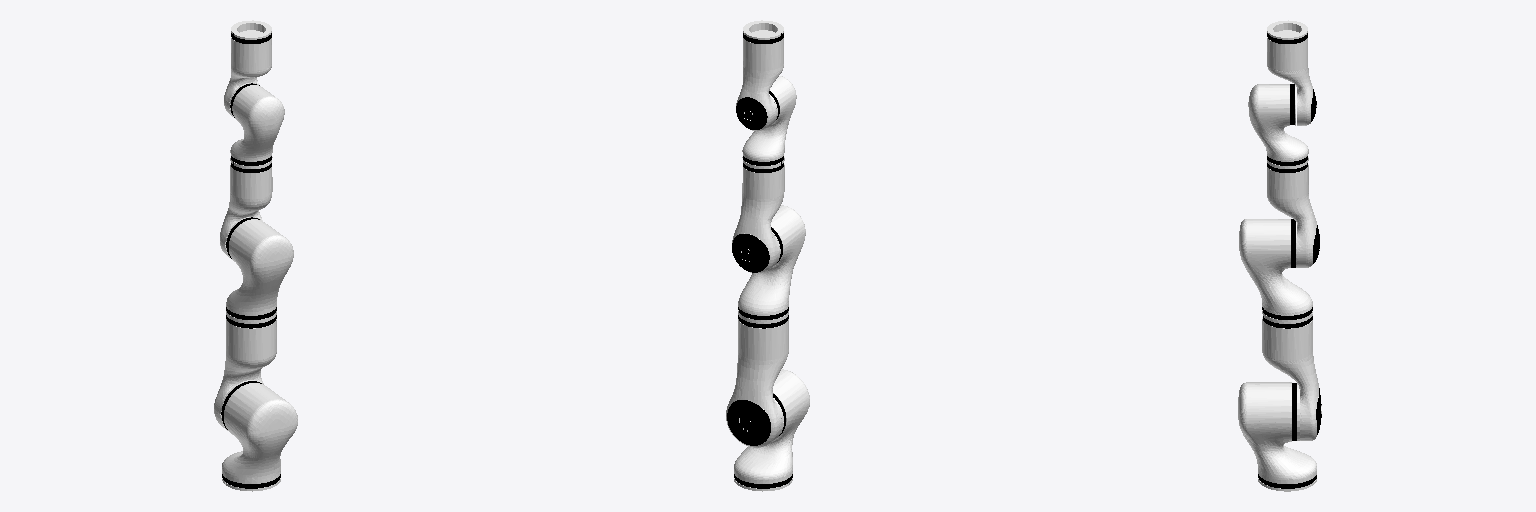
The robot description file, URDF, robot "rm_75_6f_description":
<?xml version='1.0' encoding='UTF-8'?>
<!-- This URDF was automatically created by SolidWorks to URDF Exporter! Originally created by Stephen Brawner (brawner@gmail.com)
     Commit Version: 1.6.0-1-g15f4949  Build Version: 1.6.7594.29634
     For more information, please see http://wiki.ros.org/sw_urdf_exporter-->
<robot name="rm_75_6f_description">
  <link name="base_link">
    <inertial>
      <origin xyz="0.00049987 5.2709E-05 0.060019" rpy="0 0 0"/>
      <mass value="1.862"/>
      <inertia ixx="0.0017232" ixy="-3.1058E-06" ixz="-3.7924E-05" iyy="0.0017051" iyz="1.3691E-06" izz="0.00090158"/>
    </inertial>
    <visual>
      <origin rpy="0 0 0" xyz="0 0 0"/>
      <geometry>
        <mesh filename="package://rm_description/meshes/dae/rm75/base_link.dae"/>
      </geometry>
    </visual>
    <collision>
      <origin rpy="0 0 0" xyz="0 0 0"/>
      <geometry>
        <mesh filename="package://rm_description/meshes/RM75/base_link.STL"/>
      </geometry>
    </collision>
  </link>
  <link name="Link1">
    <inertial>
      <origin rpy="0 0 0" xyz="0.000241 0.00995004875438421 -0.0132729634515197"/>
      <mass value="1.574"/>
      <inertia ixx="0.002487573" ixy="7.90896450576573e-06" ixz="9.66302905131397e-06" iyy="0.00145055531790631" iyz="-0.00017939619746143" izz="0.00232103668209369"/>
    </inertial>
    <visual>
      <origin rpy="1.5708 0 0" xyz="0 0 0"/>
      <geometry>
        <mesh filename="package://rm_description/meshes/dae/rm75/link_1.dae"/>
      </geometry>
    </visual>
    <collision>
      <origin rpy="1.5708 0 0" xyz="0 0 0"/>
      <geometry>
        <mesh filename="package://rm_description/meshes/RM75/link1.STL"/>
      </geometry>
    </collision>
  </link>
  <joint name="joint1" type="revolute">
    <origin rpy="-1.5708 0 0" xyz="0 0 0.2405"/>
    <parent link="base_link"/>
    <child link="Link1"/>
    <axis xyz="0 -0.999999999993254 -3.67320510330504e-06"/>
    <limit lower="-3.106" upper="3.106" effort="60" velocity="3.14"/>
  </joint>
  <link name="Link2">
    <inertial>
      <origin rpy="0 0 0" xyz="-0.000357 0.00532939225786383 0.10678898042477"/>
      <mass value="1.217"/>
      <inertia ixx="0.003494121" ixy="-5.61301072939424e-06" ixz="-2.92097938228005e-06" iyy="0.00344408428941695" iyz="0.000583874628319345" izz="0.000892716710583047"/>
    </inertial>
    <visual>
      <origin rpy="-1.5708 0 0" xyz="0 0 0"/>
      <geometry>
        <mesh filename="package://rm_description/meshes/dae/rm75/link_2.dae"/>
      </geometry>
    </visual>
    <collision>
      <origin rpy="-1.5708 0 0" xyz="0 0 0"/>
      <geometry>
        <mesh filename="package://rm_description/meshes/RM75/link2.STL"/>
      </geometry>
    </collision>
  </link>
  <joint name="joint2" type="revolute">
    <origin rpy="1.5708 0 0" xyz="0 0 0"/>
    <parent link="Link1"/>
    <child link="Link2"/>
    <axis xyz="0 0.999999999993254 -3.67320510330504e-06"/>
    <limit lower="-2.2689" upper="2.2689" effort="60" velocity="3.14"/>
  </joint>
  <link name="Link3">
    <inertial>
      <origin rpy="0 0 0" xyz="3e-06 0.0113240513513309 -0.0139799584045311"/>
      <mass value="1.11"/>
      <inertia ixx="0.001836663" ixy="4.21599170220123e-06" ixz="2.25901548621747e-06" iyy="0.00106254527304991" iyz="-3.71686027285797e-05" izz="0.00149887472695008"/>
    </inertial>
    <visual>
      <origin rpy="1.5708 0 0" xyz="0 0 0"/>
      <geometry>
        <mesh filename="package://rm_description/meshes/dae/rm75/link_3.dae"/>
      </geometry>
    </visual>
    <collision>
      <origin rpy="1.5708 0 0" xyz="0 0 0"/>
      <geometry>
        <mesh filename="package://rm_description/meshes/RM75/link3.STL"/>
      </geometry>
    </collision>
  </link>
  <joint name="joint3" type="revolute">
    <origin rpy="-1.5708 0 0" xyz="0 9.40340506446091e-07 0.255999999998273"/>
    <parent link="Link2"/>
    <child link="Link3"/>
    <axis xyz="0 -0.999999999993254 -3.67320510330504e-06"/>
    <limit lower="-3.106" upper="3.106" effort="30" velocity="3.14"/>
  </joint>
  <link name="Link4">
    <inertial>
      <origin rpy="0 0 0" xyz="-5e-06 0.00474731096616561 0.0846579825627242"/>
      <mass value="0.685"/>
      <inertia ixx="0.001282444" ixy="-6.29997976059737e-07" ixz="5.51002314115497e-07" iyy="0.00125617870497235" iyz="0.000232080755951225" izz="0.000373011295027649"/>
    </inertial>
    <visual>
      <origin rpy="-1.5708 0 0" xyz="0 0 0"/>
      <geometry>
        <mesh filename="package://rm_description/meshes/dae/rm75/link_4.dae"/>
      </geometry>
    </visual>
    <collision>
      <origin rpy="-1.5708 0 0" xyz="0 0 0"/>
      <geometry>
        <mesh filename="package://rm_description/meshes/RM75/link4.STL"/>
      </geometry>
    </collision>
  </link>
  <joint name="joint4" type="revolute">
    <origin rpy="1.5708 0 0" xyz="0 0 0"/>
    <parent link="Link3"/>
    <child link="Link4"/>
    <axis xyz="0 0.999999999993253 -3.67320510330504e-06"/>
    <limit lower="-2.356" upper="2.356" effort="30" velocity="3.14"/>
  </joint>
  <link name="Link5">
    <inertial>
      <origin rpy="0 0 0" xyz="7.79999999999999e-05 0.00878104752019518 -0.0129369677454987"/>
      <mass value="0.619"/>
      <inertia ixx="0.000627335999999999" ixy="1.34499399062738e-06" ixz="1.63600494044982e-06" iyy="0.000370291256906287" iyz="-3.49706323927397e-05" izz="0.000542454743093712"/>
    </inertial>
    <visual>
      <origin rpy="1.5708 0 0" xyz="0 0 0"/>
      <geometry>
        <mesh filename="package://rm_description/meshes/dae/rm75/link_5.dae"/>
      </geometry>
    </visual>
    <collision>
      <origin rpy="1.5708 0 0" xyz="0 0 0"/>
      <geometry>
        <mesh filename="package://rm_description/meshes/RM75/link5.STL"/>
      </geometry>
    </collision>
  </link>
  <joint name="joint5" type="revolute">
    <origin rpy="-1.5708 0 0" xyz="0 7.71373071694059e-07 0.209999999998583"/>
    <parent link="Link4"/>
    <child link="Link5"/>
    <axis xyz="0 -0.999999999993253 -3.67320510330504e-06"/>
    <limit lower="-3.106" upper="3.106" effort="10" velocity="3.14"/>
  </joint>
  <link name="Link6">
    <inertial>
      <origin rpy="0 0 0" xyz="-1.4e-05 0.00281928843473851 0.078523989644705"/>
      <mass value="0.602"/>
      <inertia ixx="0.000780773999999998" ixy="-4.68999555539018e-07" ixz="1.21001722732377e-07" iyy="0.000763955885331537" iyz="0.000120511258963647" izz="0.000289972114668462"/>
    </inertial>
    <visual>
      <origin rpy="-1.5708 0 0" xyz="0 0 0"/>
      <geometry>
        <mesh filename="package://rm_description/meshes/dae/rm75/link_6.dae"/>
      </geometry>
    </visual>
    <collision>
      <origin rpy="-1.5708 0 0" xyz="0 0 0"/>
      <geometry>
        <mesh filename="package://rm_description/meshes/RM75/link6.STL"/>
      </geometry>
    </collision>
  </link>
  <joint name="joint6" type="revolute">
    <origin rpy="1.5708 0 0" xyz="0 0 0"/>
    <parent link="Link5"/>
    <child link="Link6"/>
    <axis xyz="0 0.999999999993253 -3.67320510330504e-06"/>
    <limit lower="-2.234" upper="2.234" effort="10" velocity="3.14"/>
  </joint>
  <link name="Link7">
    <inertial>
      <origin rpy="0 0 0" xyz="0.00032231 -0.0001782 -0.028676"/>
      <mass value="0.14433"/>
      <inertia ixx="3.6119E-05" ixy="-1.3242E-06" ixz="-3.2733E-08" iyy="3.4626E-05" iyz="7.6694E-09" izz="6.1463E-05"/>
    </inertial>
    <visual>
      <origin
        xyz="0 0 0"
        rpy="0 0 0" />
      <geometry>
        <mesh
          filename="package://rm_description/meshes/dae/rm75/link_7_fi.dae" />
      </geometry>
    </visual>
    <collision>
      <origin xyz="0 0 0" rpy="0 0 0"/>
      <geometry>
        <mesh filename="package://rm_description/meshes/RM75_6F/Link7.STL"/>
      </geometry>
    </collision>
  </link>
  <joint name="joint7" type="revolute">
    <origin rpy="0 0 0" xyz="0 0 0.1725"/>
    <parent link="Link6"/>
    <child link="Link7"/>
    <axis xyz="0 0 1"/>
    <limit effort="100" lower="-6.283" upper="6.283" velocity="1"/>
  </joint>
</robot>

--- What the picture shows (computed from the rendered views, not written in the file) ---
The picture shows the robot from 3 angles, left to right: view 1: azimuth 30°, elevation 25°; view 2: azimuth 150°, elevation 25°; view 3: azimuth 270°, elevation 25°; orthographic projection.
Robot: rm_75_6f_description — 8 links, 7 joints (7 revolute); root link base_link; default pose: every joint at zero.
Visible links, largest first — view 1: Link1, Link3, Link5, Link2, Link6, Link4; view 2: Link2, Link4, Link1, Link6, Link3, Link5; view 3: Link1, Link3, Link2, Link5, Link4, Link6.
Boxes of the visible links, x1,y1,x2,y2 form: Link1: (220, 380, 297, 491); Link3: (226, 217, 293, 321); Link5: (229, 82, 284, 166); Link2: (214, 313, 276, 430); Link6: (224, 20, 271, 116); Link4: (220, 159, 272, 257); Link2: (726, 313, 788, 447); Link4: (732, 159, 784, 273); Link1: (734, 369, 809, 491); Link6: (736, 20, 783, 130); Link3: (738, 205, 805, 321); Link5: (742, 76, 796, 166); Link1: (1238, 382, 1316, 491); Link3: (1239, 219, 1312, 321); Link2: (1262, 313, 1321, 440); Link5: (1248, 84, 1308, 167); Link4: (1267, 160, 1319, 267); Link6: (1267, 20, 1316, 125).
Bounding box of the posed robot: 0.082 × 0.115 × 0.683 m (x, y, z).
6 mesh visuals loaded from 8 distinct referenced files (6 Collada DAE); not drawn: 2 (reference not matched to a file when rendering).
